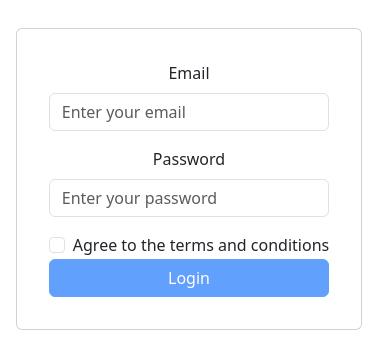
Register Page › Error Messages › password throws error if user enters invalid input
The image size is (380, 360).
Type "Merdiven05" into the password field with test id "password-input" at [189, 198], box x1=49 y1=179 x2=329 y2=217
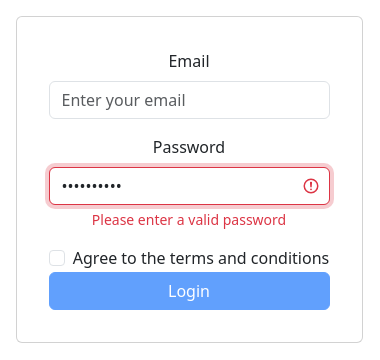
Expected: the text "Please enter a valid password" is shown, x1=92 y1=210 x2=286 y2=228
